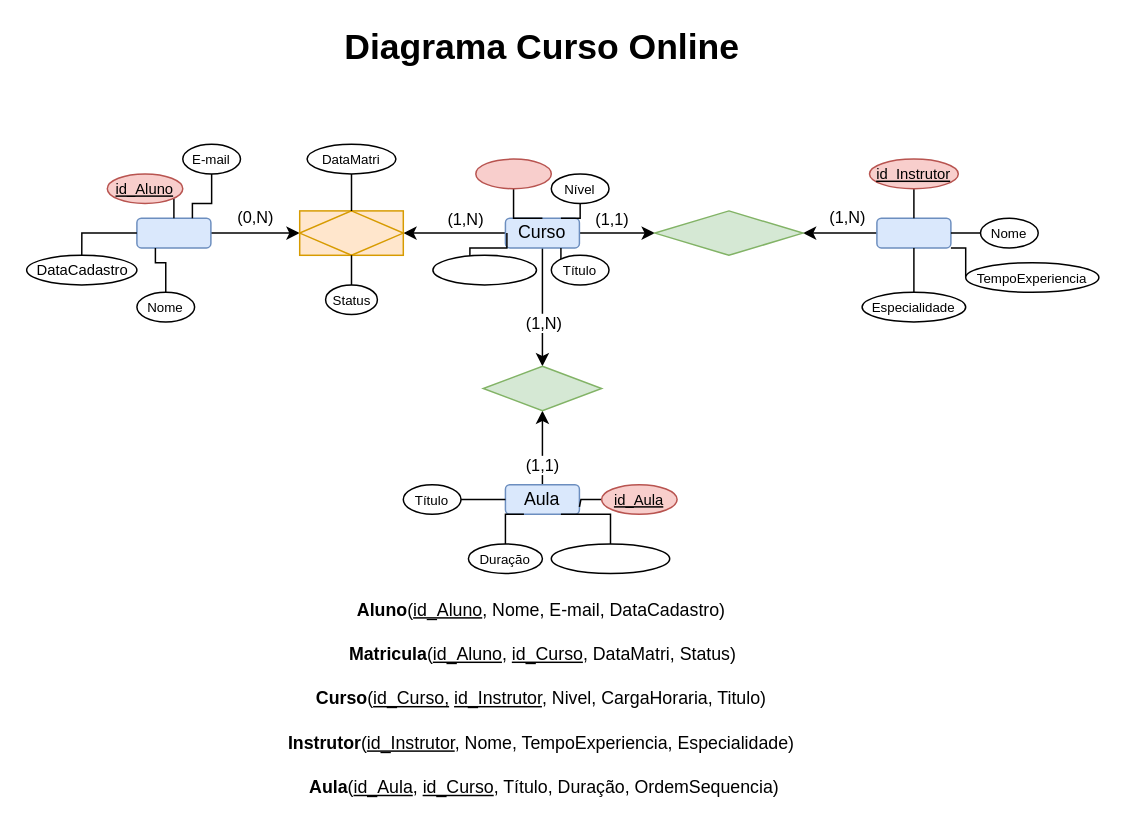
This 1125x835 diagram has some shape labels left out. The centre of each missing label's shape, as x and y in pixels:
"Aluno" belongs at [173,232].
"CargaHoraria" belongs at [483,269].
"Compõe" belongs at [542,388].
"id_Curso" belongs at [512,173].
"Instrutor" belongs at [913,232].
"Matricula" belongs at [350,232].
"Ministrado" belongs at [728,232].
"OrdemSequencia" belongs at [610,558].
